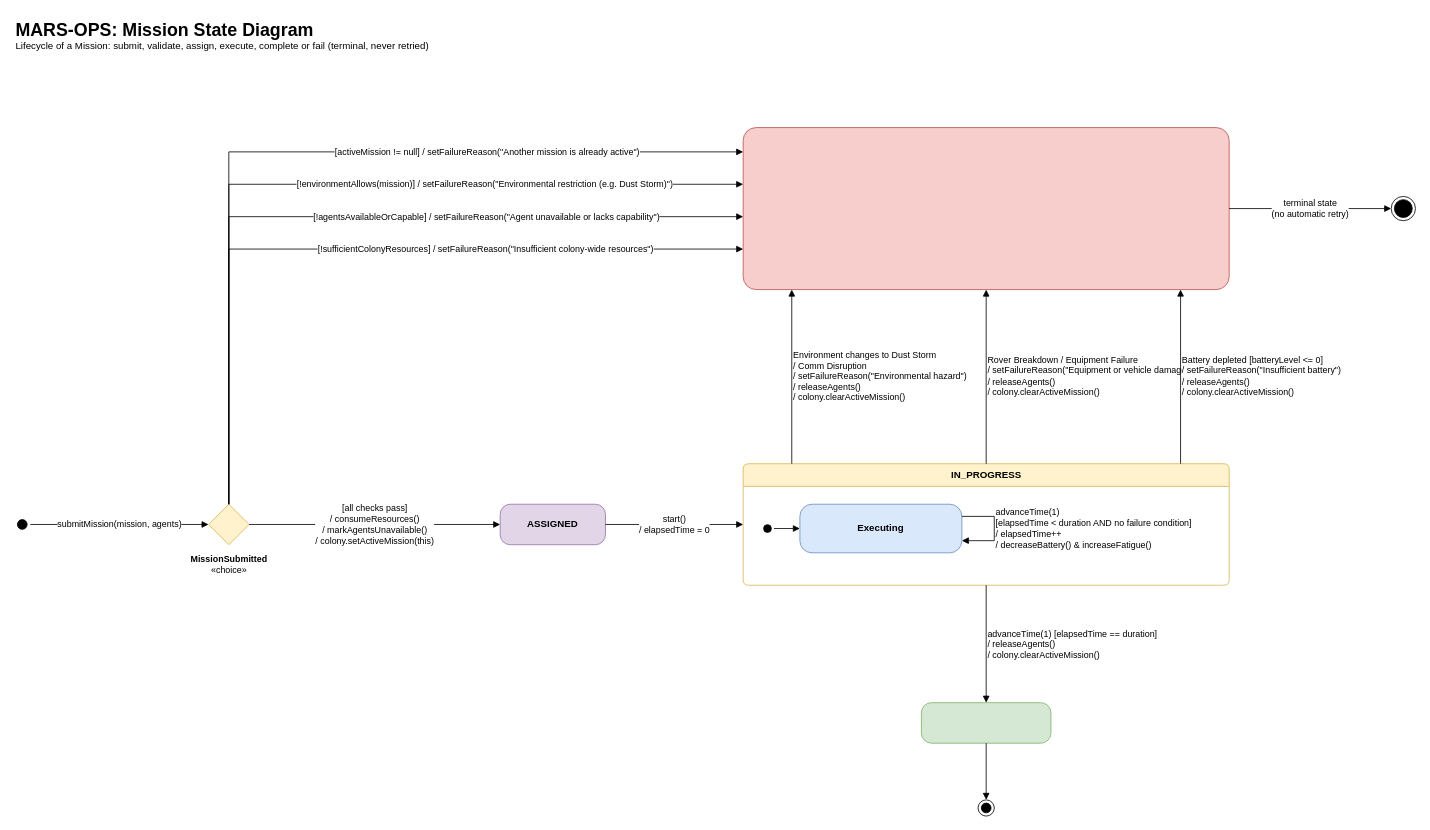
The diagram is 1430 pixels wide and 830 high, and some of its shapes have lost their labels. Here are the shapes that lost their labels. From the top down, the box of each, then its label:
(742, 127, 1229, 290): FAILED
(921, 702, 1051, 743): COMPLETED
